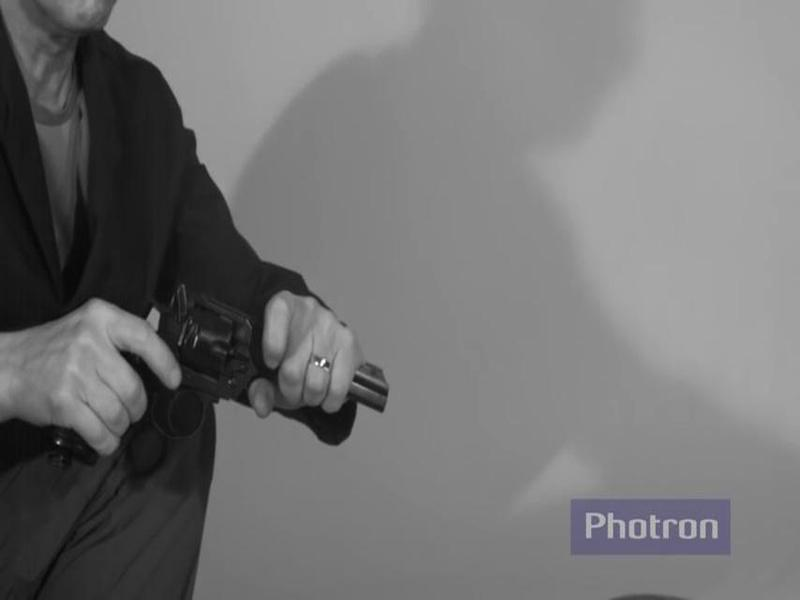Revolver: (57, 272, 395, 498)
